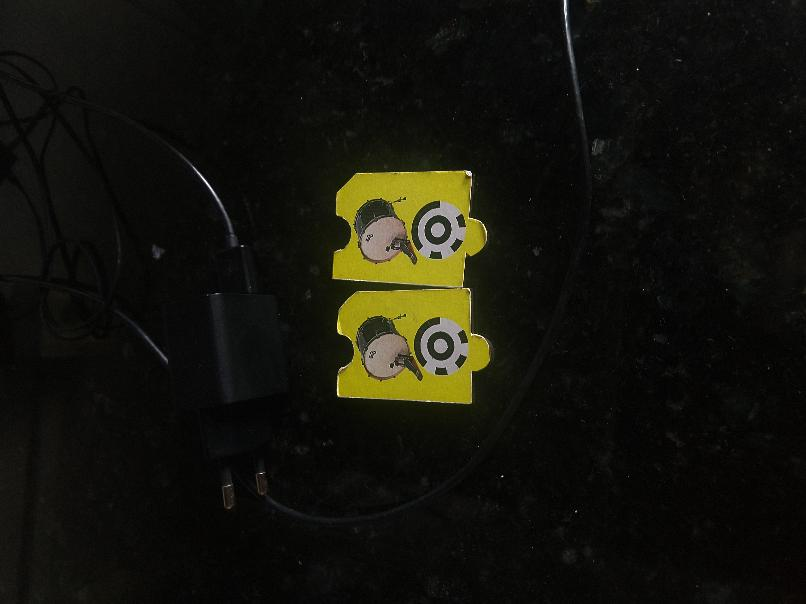bumbo: (333, 168, 490, 288), (335, 286, 490, 402)
